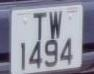1: (17, 39, 29, 74)
4: (28, 39, 45, 73), (59, 36, 76, 69)
9: (42, 39, 61, 70)
T: (30, 10, 49, 45)
W: (47, 11, 64, 42)
